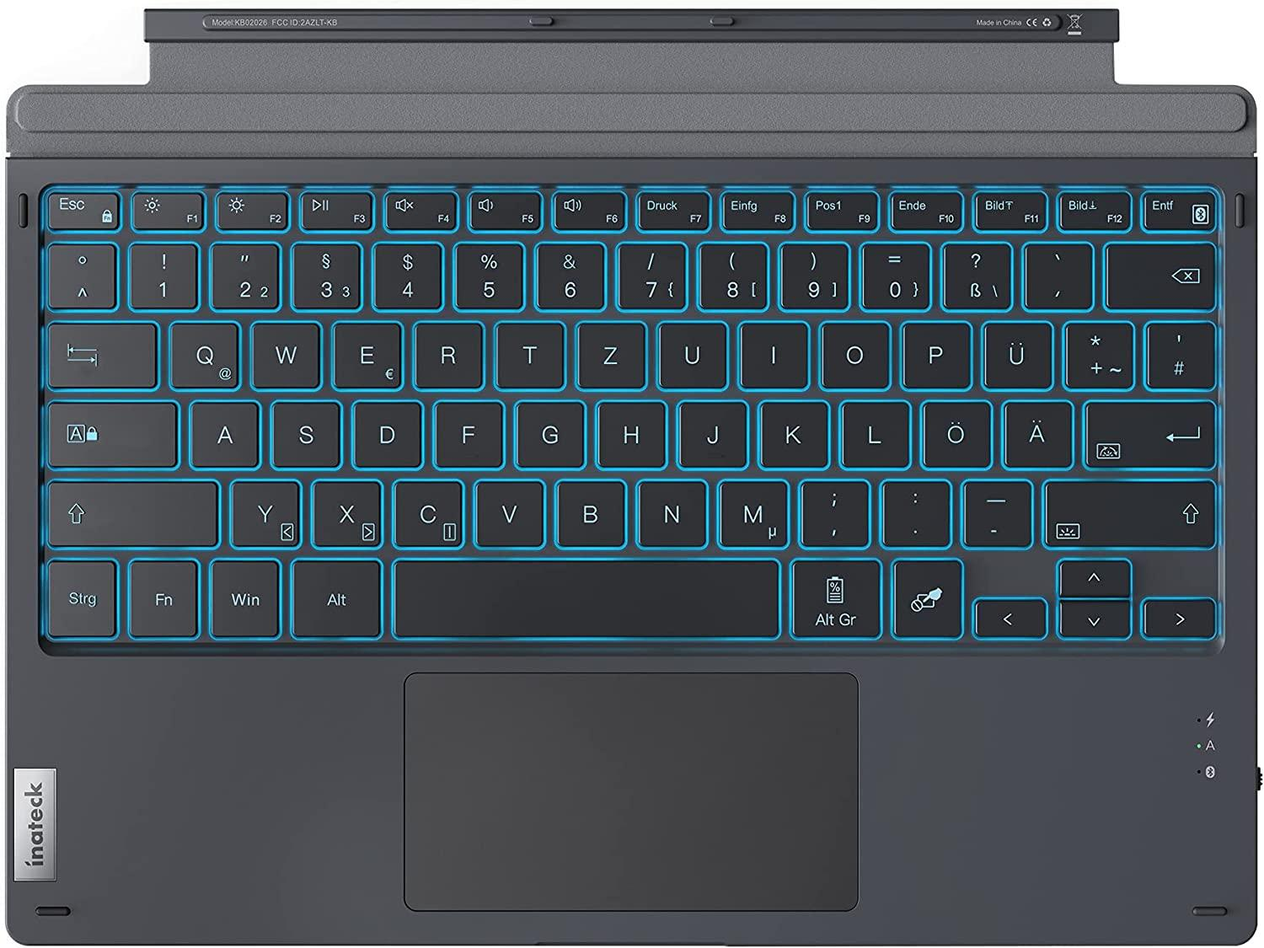0: (857, 238, 931, 310)
1: (126, 238, 196, 308)
2: (206, 238, 280, 309)
3: (287, 238, 362, 310)
4: (371, 238, 442, 309)
5: (451, 238, 525, 309)
6: (532, 238, 606, 309)
7: (613, 238, 686, 310)
8: (694, 239, 768, 310)
9: (775, 238, 849, 310)
a: (186, 396, 259, 467)
accent: (1020, 238, 1092, 308)
ae: (999, 396, 1073, 467)
alt-left: (287, 555, 382, 637)
altgr-right: (785, 554, 882, 639)
b: (552, 475, 626, 545)
c: (389, 475, 463, 547)
caret: (43, 238, 116, 308)
comma: (795, 474, 868, 545)
d: (349, 397, 423, 467)
del: (1102, 238, 1216, 308)
e: (329, 317, 402, 388)
enter: (1081, 395, 1216, 467)
f: (431, 396, 502, 467)
g: (512, 397, 584, 467)
h: (593, 396, 666, 467)
hash: (1143, 317, 1216, 388)
i: (736, 316, 807, 387)
j: (675, 395, 746, 467)
k: (756, 396, 828, 467)
keyboard: (15, 154, 1240, 656)
l: (837, 395, 908, 466)
m: (713, 474, 788, 547)
minus: (956, 475, 1031, 545)
n: (633, 476, 707, 546)
o: (816, 317, 890, 388)
oe: (918, 397, 990, 467)
p: (897, 317, 971, 388)
plus: (1060, 316, 1133, 388)
point: (877, 475, 951, 544)
q: (164, 317, 239, 388)
r: (410, 318, 483, 388)
s: (268, 397, 340, 467)
shift-left: (44, 474, 220, 545)
shift-lock: (42, 397, 175, 466)
shift-right: (1042, 474, 1218, 547)
space: (390, 554, 779, 639)
ss: (937, 238, 1011, 310)
strg-left: (42, 555, 117, 637)
t: (492, 317, 563, 387)
tab: (43, 316, 156, 387)
u: (654, 316, 726, 388)
ue: (978, 316, 1052, 388)
v: (470, 475, 545, 545)
w: (246, 316, 319, 388)
x: (309, 475, 383, 546)
y: (228, 476, 303, 546)
z: (572, 317, 645, 388)
